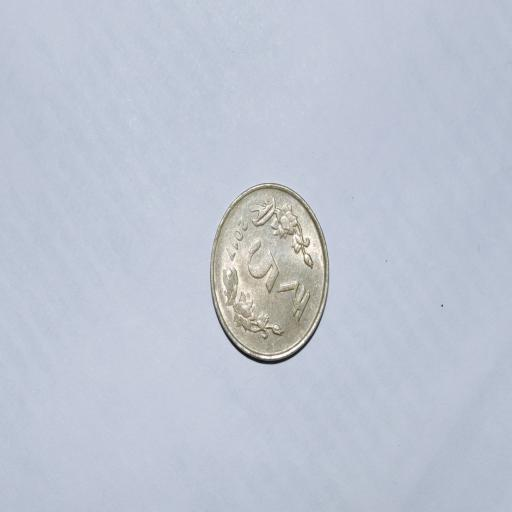rupee5: (209, 182, 329, 363)
